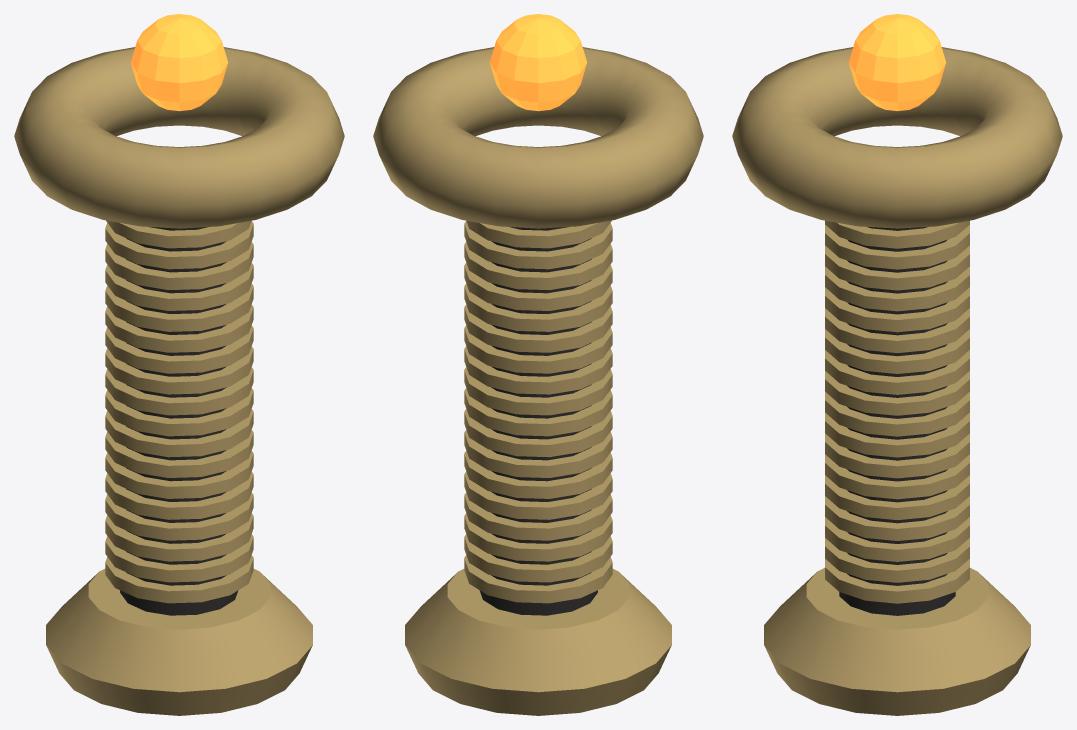
File: Kit_Active_Shock.glb
The picture shows the model from 3 angles, left to right: view 1: azimuth 30°, elevation 25°; view 2: azimuth 150°, elevation 25°; view 3: azimuth 270°, elevation 25°; orthographic projection.
Visible parts, largest first — view 1: Kit_Active_Shock; view 2: Kit_Active_Shock; view 3: Kit_Active_Shock.
Boxes of the visible parts, left/top/right/bottom form: Kit_Active_Shock: left=14, top=14, right=344, bottom=715; Kit_Active_Shock: left=373, top=14, right=703, bottom=715; Kit_Active_Shock: left=732, top=14, right=1062, bottom=715.
Bounding box in the file's own units: 0.122 × 0.263 × 0.122.
